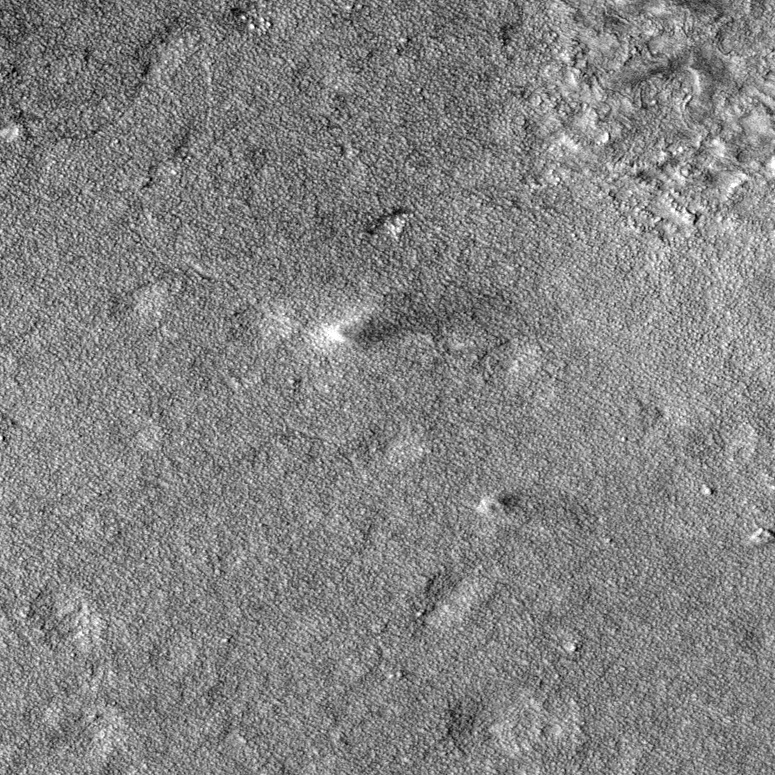dust_devil: (315, 289, 491, 356)
